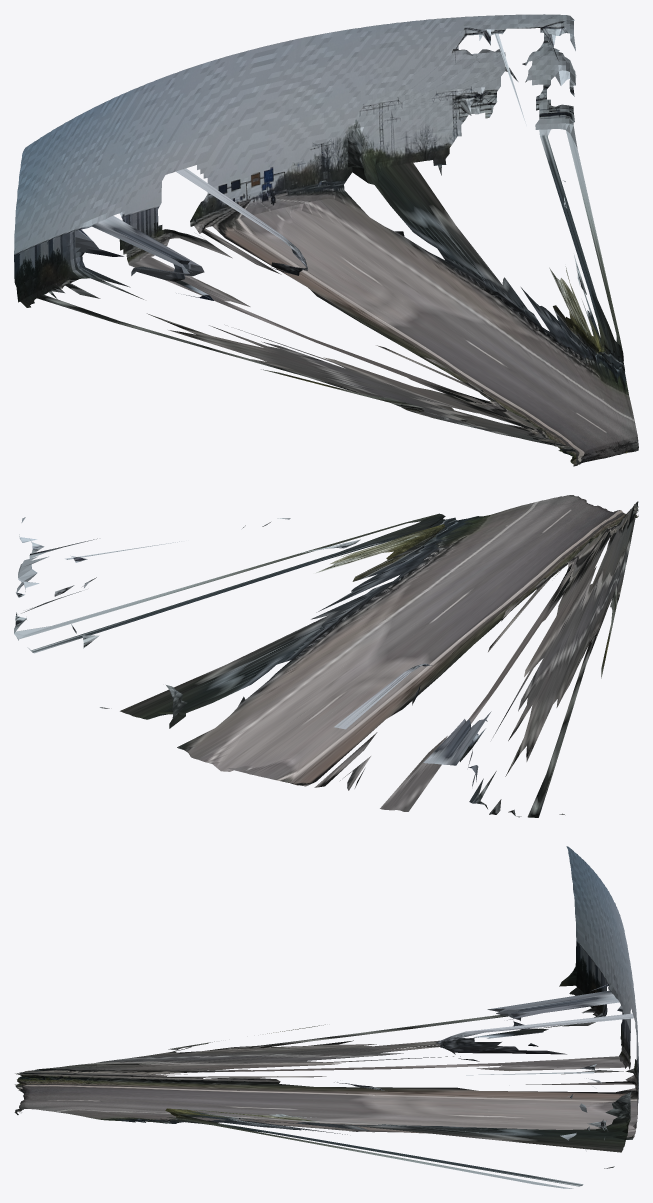
The picture shows the model from 3 angles, top to bottom: view 1: azimuth 30°, elevation 25°; view 2: azimuth 150°, elevation 25°; view 3: azimuth 270°, elevation 25°; orthographic projection. The views are drawn at different scales.
Visible parts, largest first — view 1: defaultobject; view 2: defaultobject; view 3: defaultobject.
Part boxes in pixels (x1=…): defaultobject: x1=14, y1=14, x2=638, y2=466; defaultobject: x1=14, y1=495, x2=638, y2=817; defaultobject: x1=14, y1=846, x2=638, y2=1188.
Bounding box in the file's own units: 41 × 12.79 × 44.6.
Materials: 1 (1 with a texture image).
